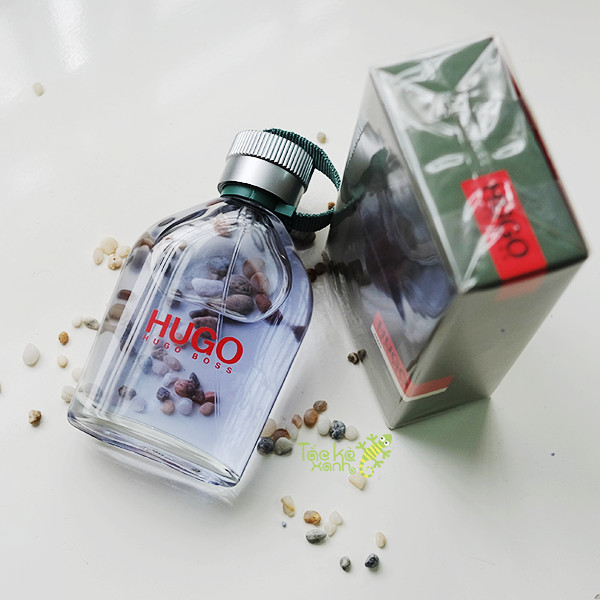Hugo Boss: (141, 333, 239, 377)
